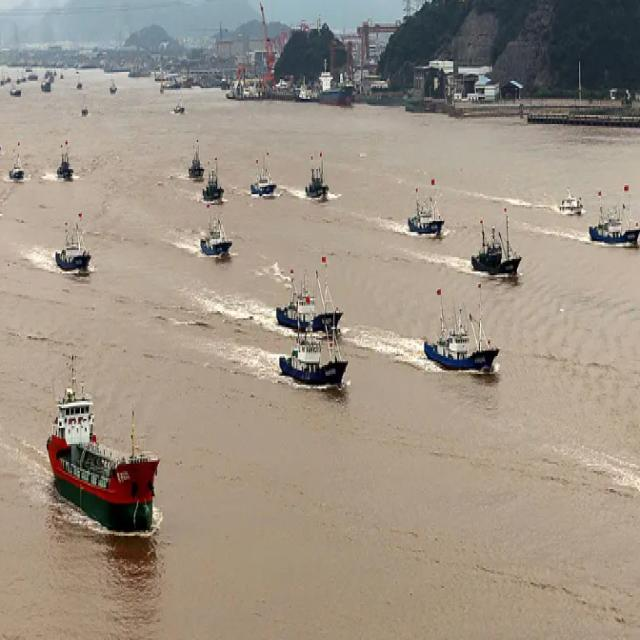cargoship: (46, 365, 162, 533)
fishing boat: (424, 281, 501, 373), (276, 319, 347, 393), (280, 258, 343, 334), (589, 183, 640, 249), (474, 212, 522, 273), (55, 211, 96, 281), (405, 173, 440, 240), (301, 147, 329, 197), (201, 214, 232, 258), (250, 152, 274, 200), (203, 158, 226, 204), (54, 137, 76, 182), (3, 140, 26, 182), (557, 182, 585, 215), (186, 134, 203, 176), (174, 94, 184, 120), (10, 79, 23, 97), (108, 79, 118, 96), (75, 76, 85, 93), (81, 100, 89, 120)
